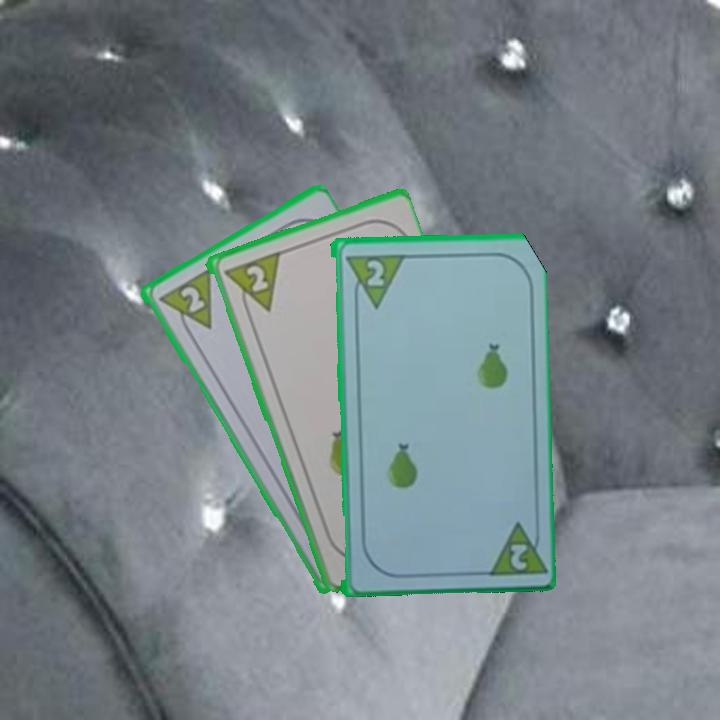2p: (154, 265, 215, 343), (219, 248, 282, 321), (481, 516, 546, 578), (361, 256, 386, 289)
